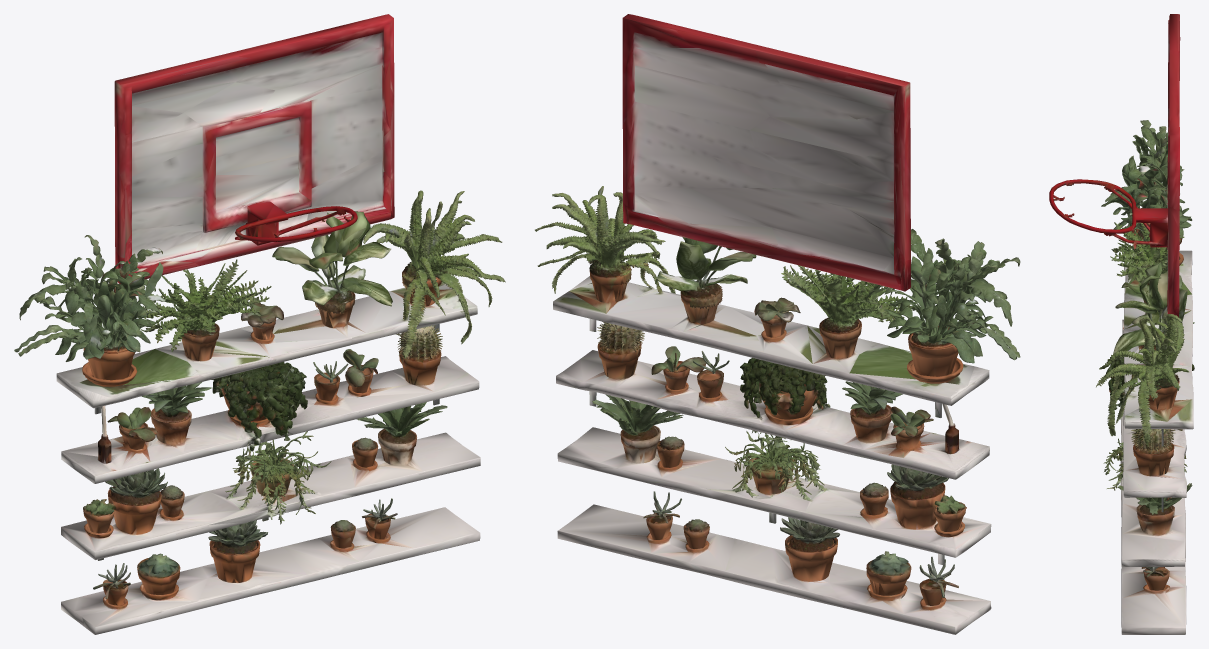
Rendered from hoop-garden.glb.
3 views of the same model, side by side, from view 1: azimuth 30°, elevation 25°; view 2: azimuth 150°, elevation 25°; view 3: azimuth 270°, elevation 25° (orthographic). The views are drawn at different scales.
Parts seen in each view (by area): view 1: Mesh_0; view 2: Mesh_0; view 3: Mesh_0.
Part boxes in pixels (<box>): Mesh_0: <box>14,14,505,634</box>; Mesh_0: <box>535,14,1020,634</box>; Mesh_0: <box>1049,14,1194,634</box>.
Bounding box in the file's own units: 1.8 × 1.87 × 0.5209.
Materials: 1 (1 with a texture image).
